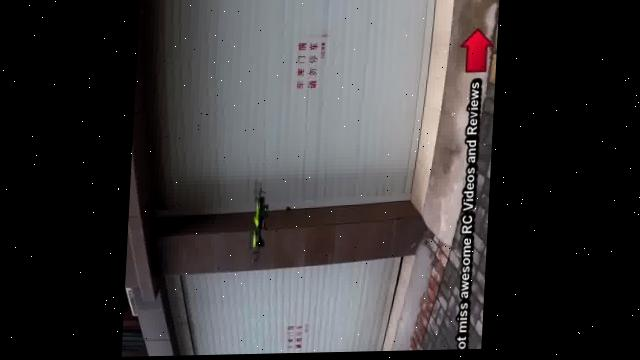drone: (242, 173, 276, 270)
